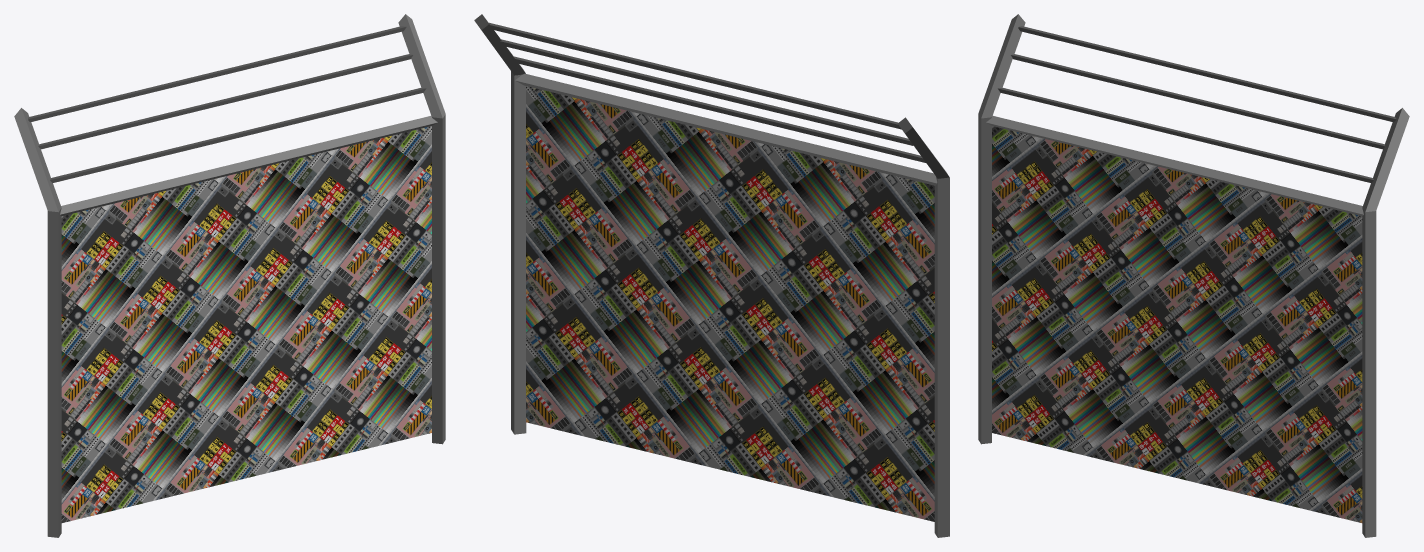
File: fence_01.fbx
3 views of the same model, side by side, from view 1: azimuth 30°, elevation 25°; view 2: azimuth 150°, elevation 25°; view 3: azimuth 330°, elevation 25° (orthographic). The views are drawn at different scales.
Parts seen in each view (by area): view 1: fence_01; view 2: fence_01; view 3: fence_01.
Part boxes in pixels (x1,y1,x2,y2): fence_01: (14,14,445,537); fence_01: (474,14,949,537); fence_01: (978,14,1409,537).
Size of the model in its own units: 4.89 by 4.73 by 0.8049.
Materials: 1 (1 with a texture image).
